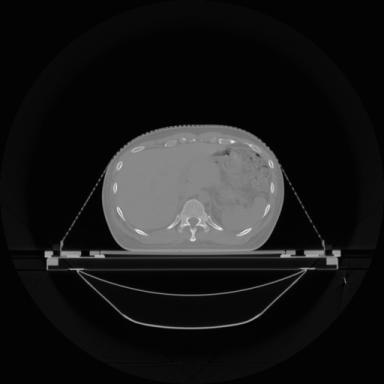body: (102, 125, 284, 251)
cord: (167, 199, 223, 241)
